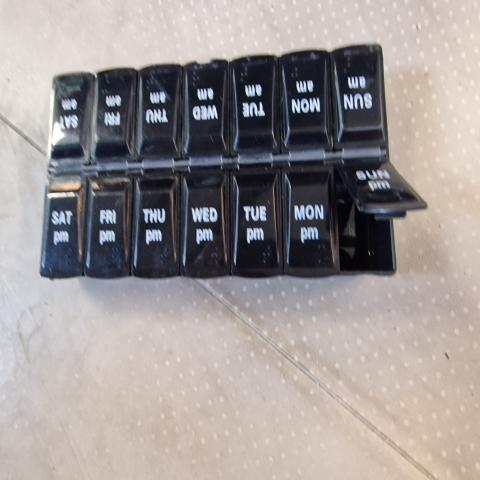Open: (330, 169, 401, 271)
